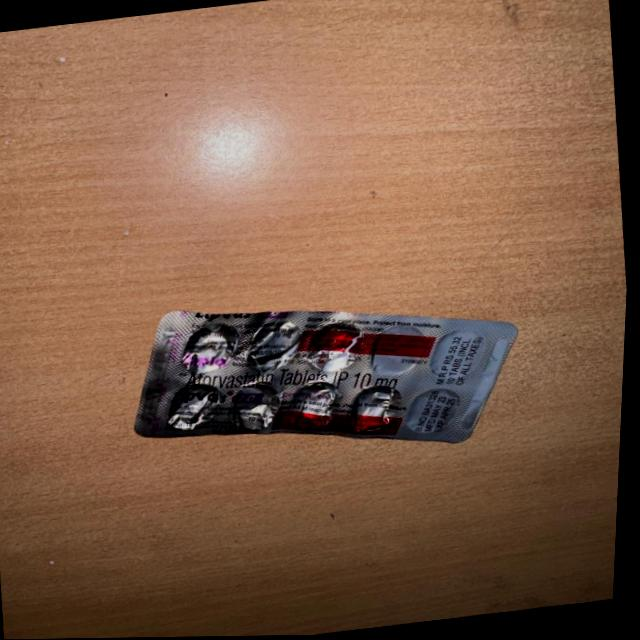medicine: (112, 288, 563, 454)
